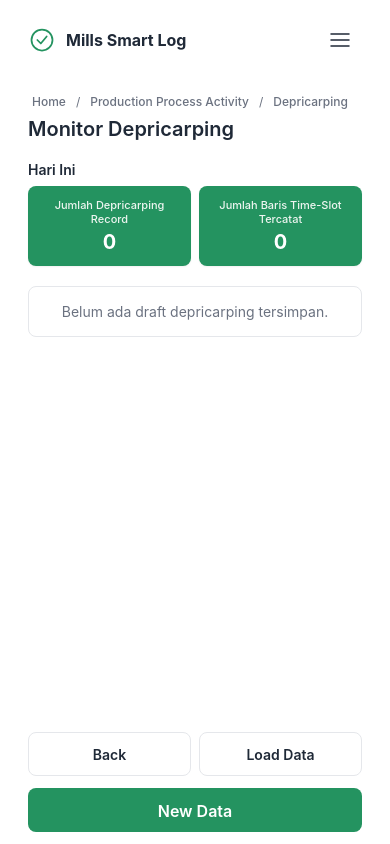
Test: MonitorDepricarpingView › opens the nav menu with Ganti Password and Logout when hamburger is tapped
The image size is (390, 844).
Click the button with test id "hamburger-button". click: (340, 40)
box: [318,18,362,62]
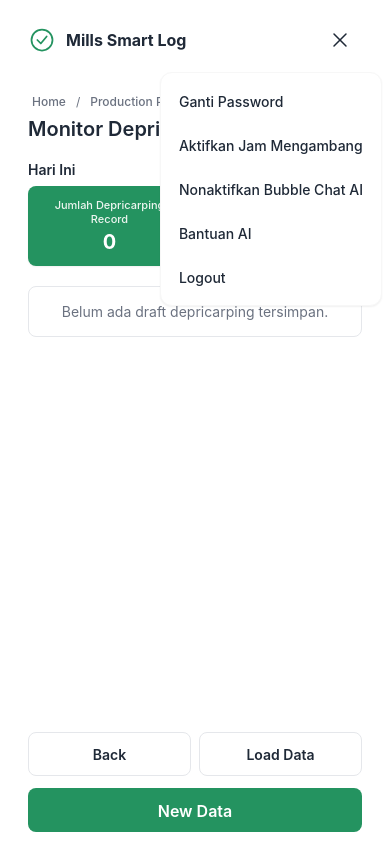
Expected: the element with test id "nav-menu" is shown, [160,72,382,306]
Expected: the element with test id "nav-menu" shows "Ganti Password", [167,79,375,123]
Expected: the element with test id "nav-menu" shows "Logout", [167,255,375,299]
